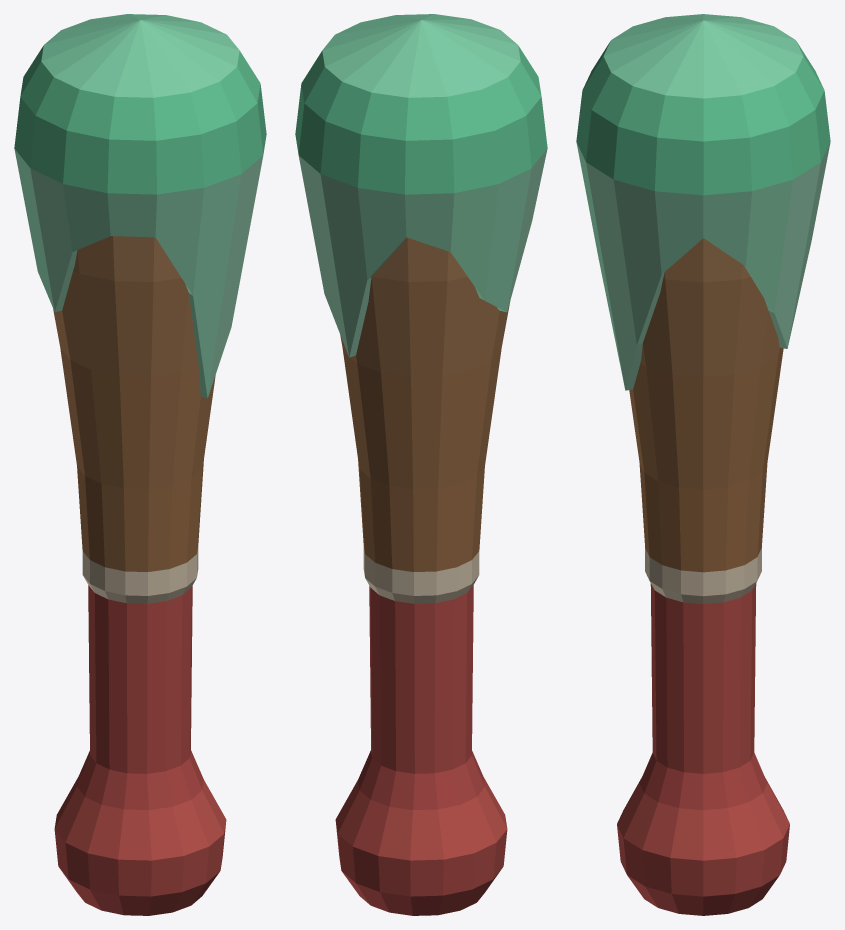
Rendered from ranch_bat.fbx.
3 renders of one model, left to right at view 1: azimuth 30°, elevation 25°; view 2: azimuth 150°, elevation 25°; view 3: azimuth 270°, elevation 25°, orthographic.
Parts seen in each view (by area): view 1: ranch_bat; view 2: ranch_bat; view 3: ranch_bat.
Boxes of the visible parts, x1,y1,x2,y2 form: ranch_bat: (14, 14, 266, 915); ranch_bat: (295, 14, 547, 915); ranch_bat: (576, 14, 830, 915).
Size of the model in its own units: 1.35 by 5.09 by 1.35.
